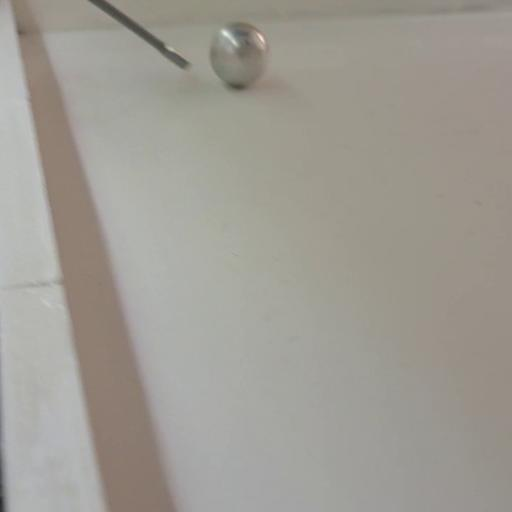alive: (210, 22, 268, 89)
